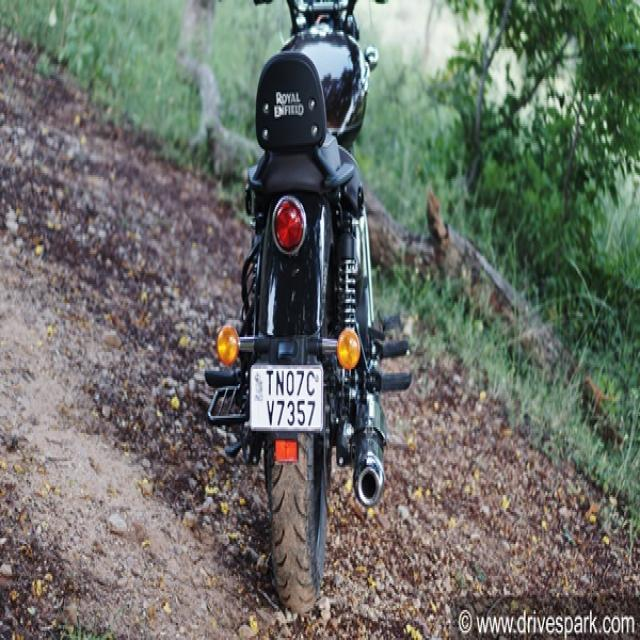number plate: (249, 361, 323, 433)
